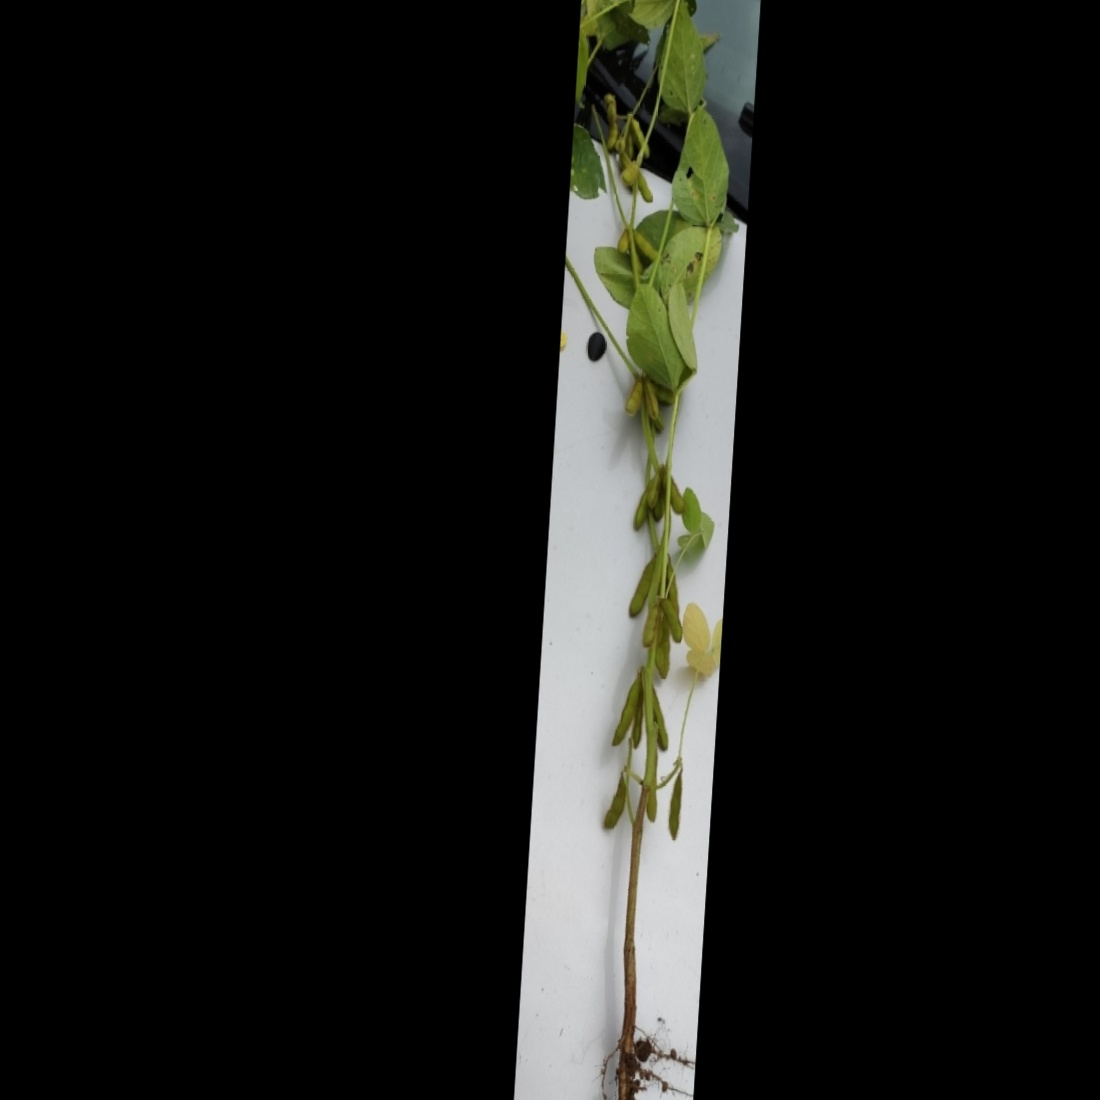pod: (610, 678, 640, 752), (624, 556, 657, 618), (601, 771, 630, 837), (656, 596, 688, 645), (665, 768, 685, 844), (626, 113, 651, 159), (623, 375, 646, 419)
soy: (516, 0, 752, 1100)
